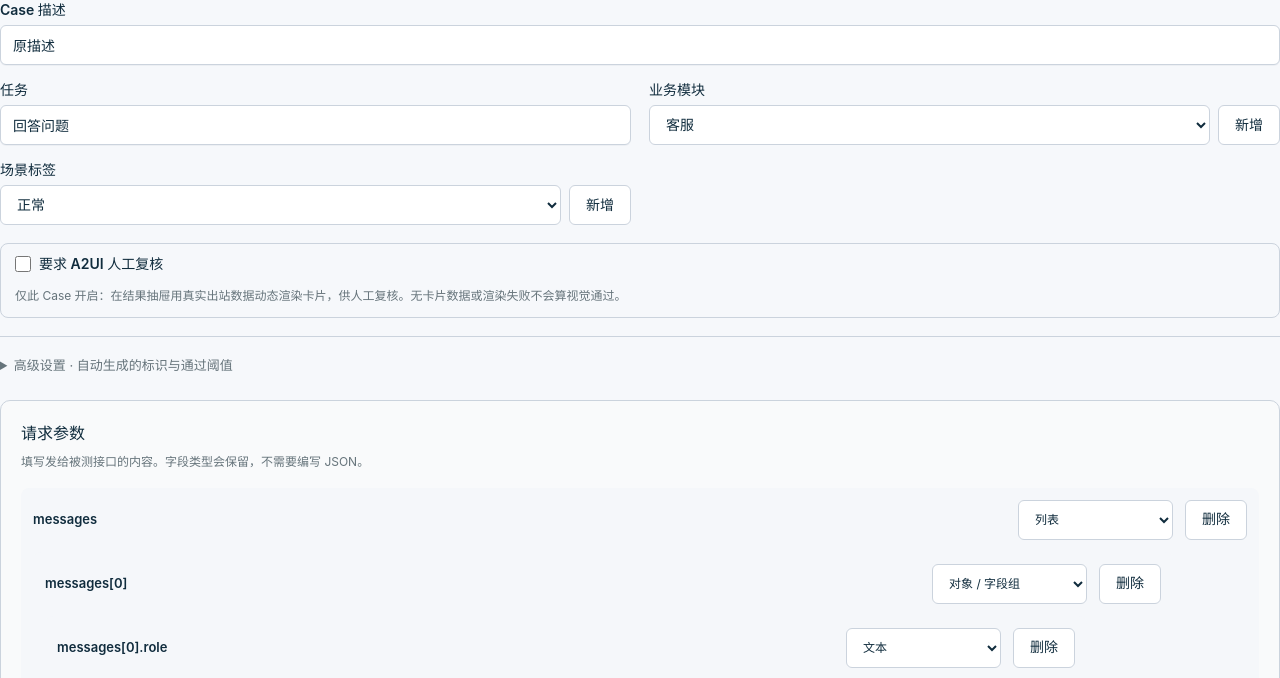
Test: Case 双编辑器组件 › 结构化数字字段无效时显示本地契约错误
The image size is (1280, 678).
Clear the number field labelled "通过阈值": (640, 359) [0,336,1279,382]
(page scrolled)
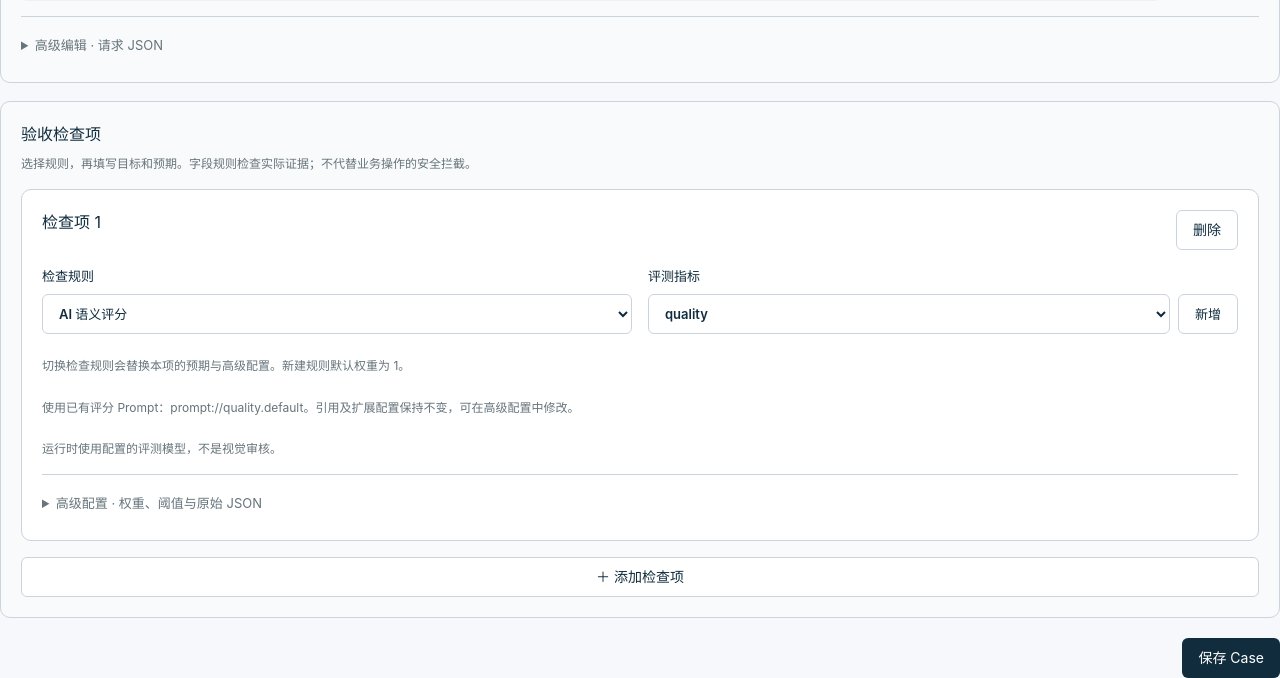
Click the button "保存 Case": (1231, 658) [1182,638,1279,677]
(page scrolled)
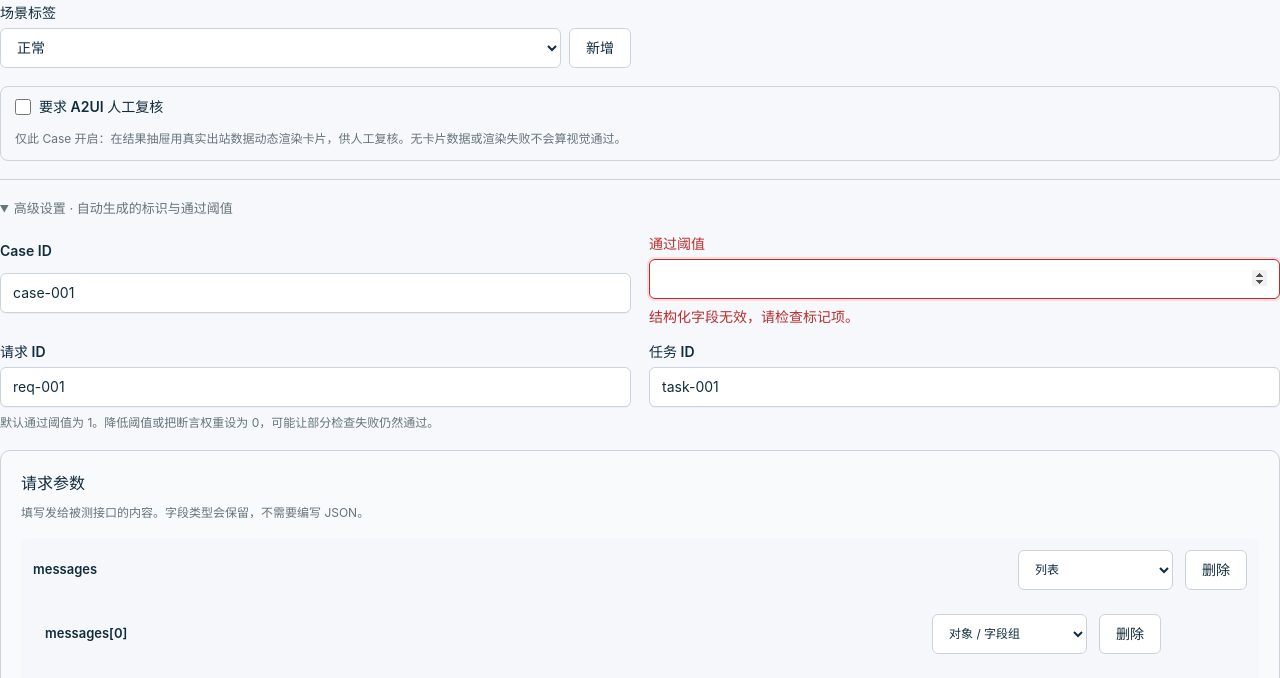
Result: the text "结构化字段无效，请检查标记项。" is shown at [649,308,859,325]
